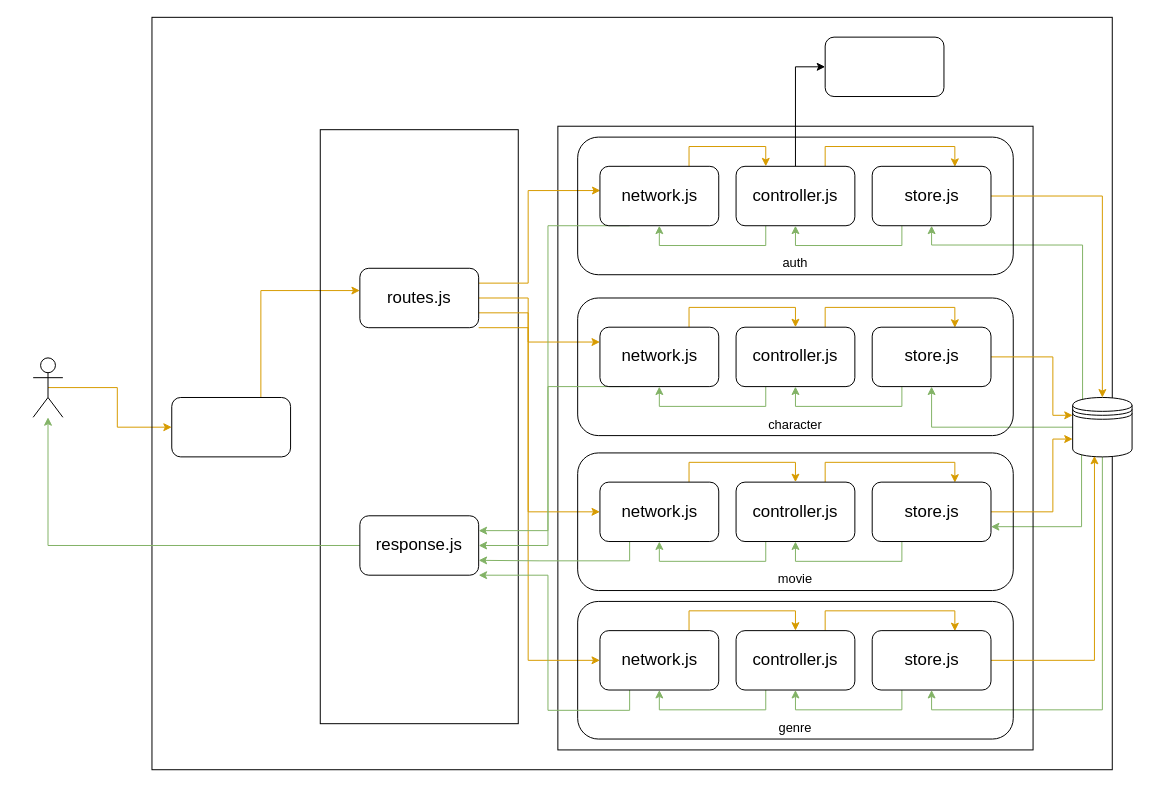
This 1149x804 diagram has some shape labels left out. The centre of each missing label's shape, as x and y in pixels:
"db" belongs at pixel 1102 426.
"email notification" belongs at pixel 884 66.
"frontend" belongs at pixel 47 387.
"server.js" belongs at pixel 231 426.
